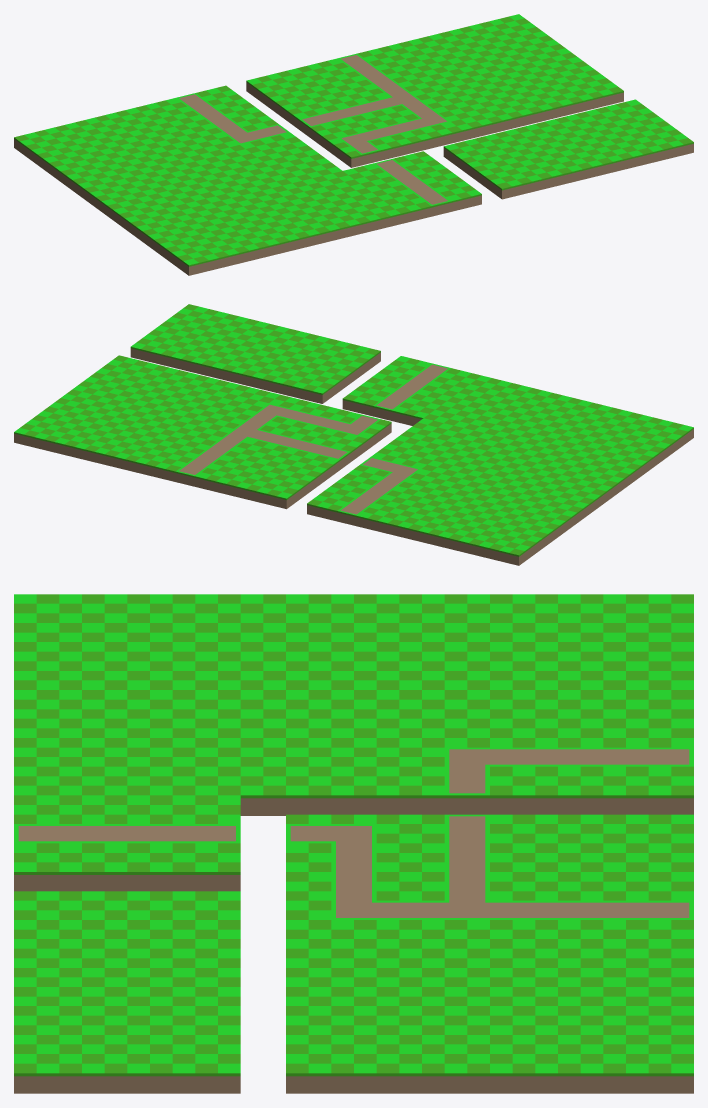
Rendered from Map 04.fbx.
The picture shows the model from 3 angles, top to bottom: view 1: azimuth 30°, elevation 25°; view 2: azimuth 150°, elevation 25°; view 3: azimuth 270°, elevation 25°; orthographic projection. The views are drawn at different scales.
Visible parts, largest first — view 1: Plane.007; view 2: Plane.007; view 3: Plane.007.
Part boxes in pixels (<box>): Plane.007: <box>14,14,693,275</box>; Plane.007: <box>14,304,693,565</box>; Plane.007: <box>14,594,693,1093</box>.
Bounding box in the file's own units: 500 × 10 × 300.
